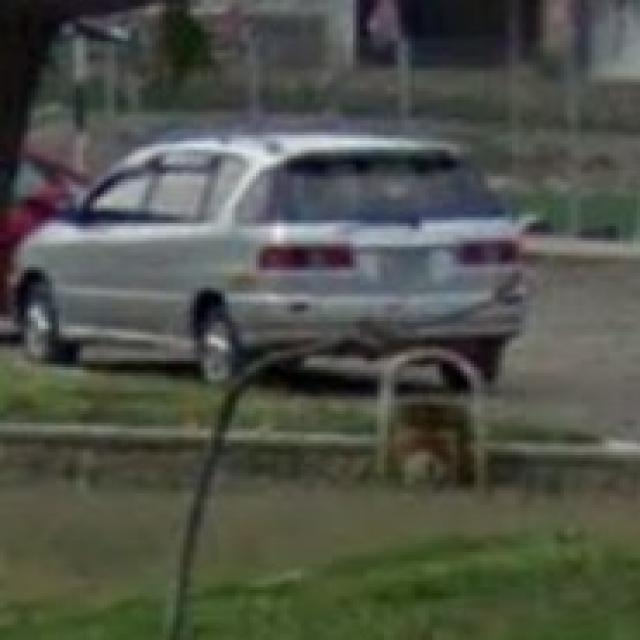cars: (10, 140, 542, 380)
